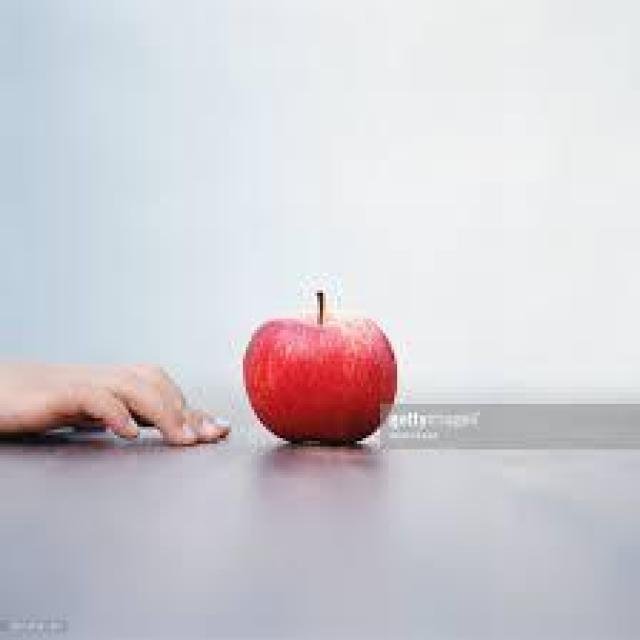maca: (240, 287, 397, 444)
